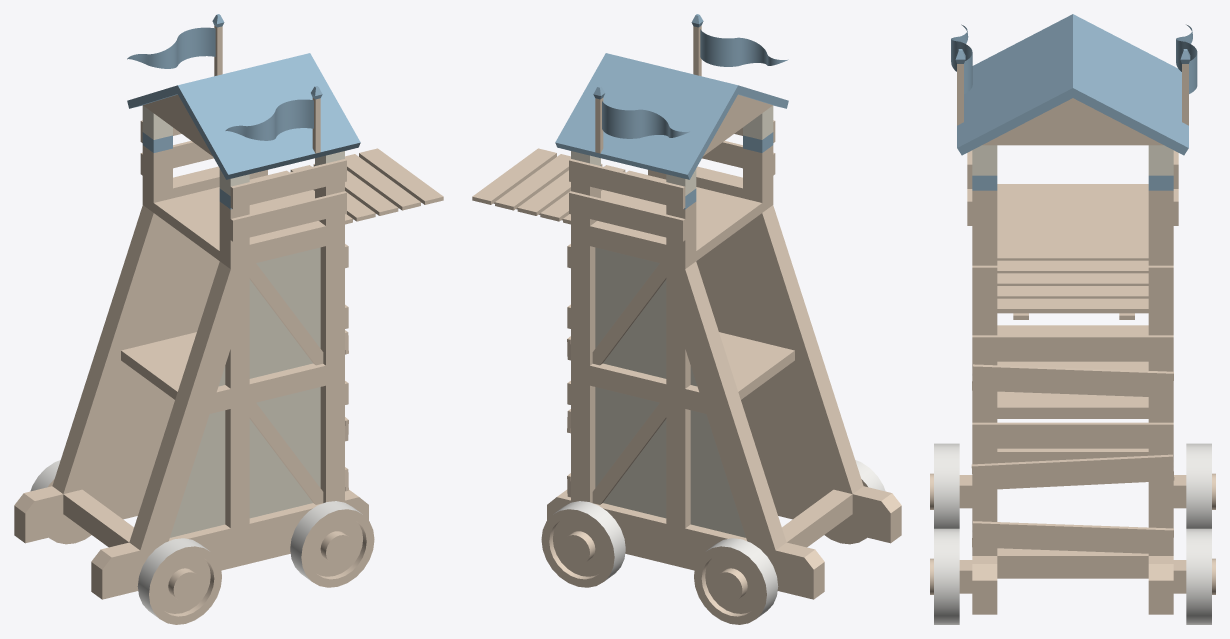
Rendered from siegeTower.glb.
3 views of the same model, side by side, from view 1: azimuth 30°, elevation 25°; view 2: azimuth 150°, elevation 25°; view 3: azimuth 270°, elevation 25° (orthographic). The views are drawn at different scales.
Parts seen in each view (by area): view 1: body 8, wheelBackRight 10, wheelFrontRight 13, bridge 4, flag 25, flag 24, wheelBackLeft 10; view 2: body 8, wheelBackLeft 10, wheelFrontLeft 13, bridge 4, flag 24, flag 25, wheelBackRight 10; view 3: body 8, bridge 4, wheelFrontLeft 13, wheelFrontRight 13, wheelBackLeft 10, wheelBackRight 10, flag 25, flag 24.
Part boxes in pixels (bbox=[...]): body 8: bbox=[14, 53, 368, 599]; wheelBackRight 10: bbox=[137, 538, 221, 624]; wheelFrontRight 13: bbox=[290, 501, 374, 587]; bridge 4: bbox=[268, 148, 443, 224]; flag 25: bbox=[225, 86, 322, 153]; flag 24: bbox=[127, 14, 224, 76]; wheelBackLeft 10: bbox=[30, 460, 91, 544]; body 8: bbox=[547, 53, 901, 599]; wheelBackLeft 10: bbox=[694, 538, 778, 624]; wheelFrontLeft 13: bbox=[541, 501, 625, 587]; bridge 4: bbox=[472, 148, 647, 224]; flag 24: bbox=[593, 86, 689, 153]; flag 25: bbox=[691, 14, 788, 76]; wheelBackRight 10: bbox=[824, 460, 885, 544]; body 8: bbox=[957, 14, 1188, 614]; bridge 4: bbox=[997, 248, 1148, 319]; wheelFrontLeft 13: bbox=[1186, 528, 1215, 624]; wheelFrontRight 13: bbox=[930, 528, 959, 624]; wheelBackLeft 10: bbox=[1186, 443, 1215, 528]; wheelBackRight 10: bbox=[930, 443, 959, 528]; flag 25: bbox=[951, 24, 972, 125]; flag 24: bbox=[1176, 24, 1197, 125].
Bounding box in the file's own units: 19.62 × 25.98 × 11.91.
